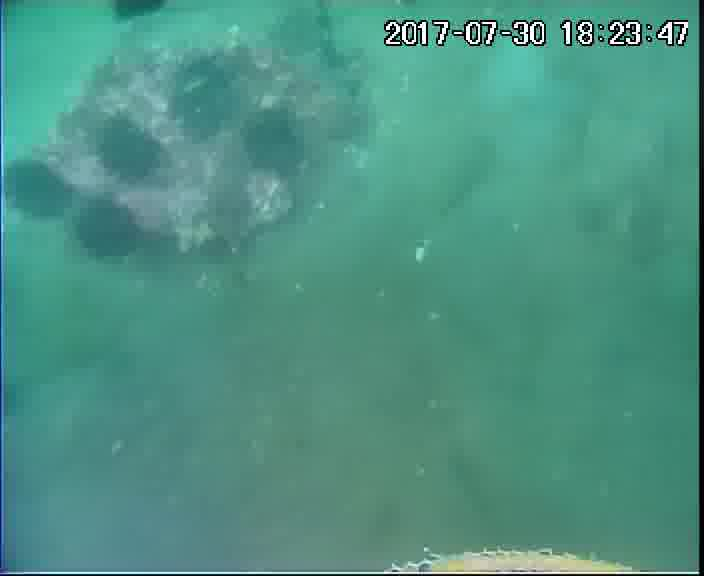echinus: (169, 57, 247, 145), (72, 194, 147, 267), (240, 106, 312, 182), (1, 154, 77, 225), (95, 117, 166, 185), (106, 1, 173, 28)
